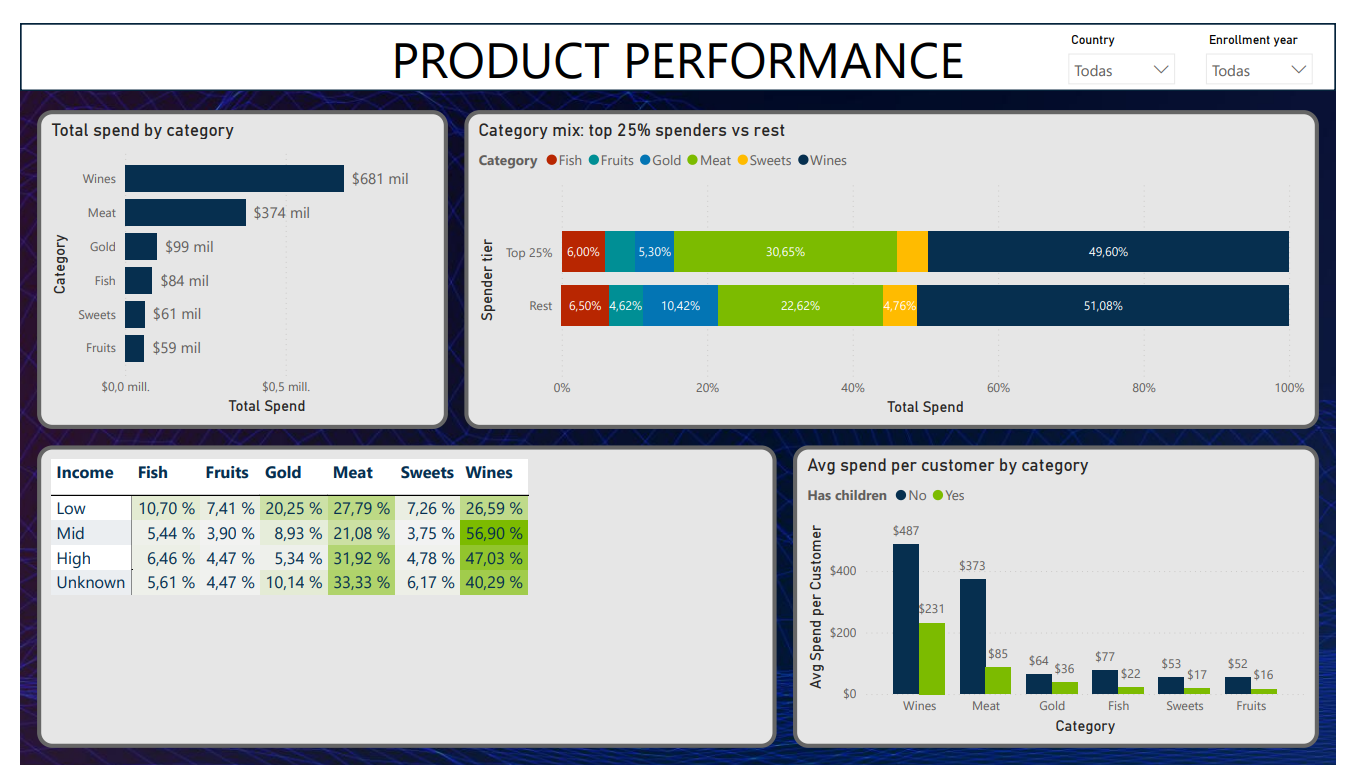

Layout of this report page (visuals, bound fields, positions):
{"tool":"powerbi","page":{"name":"4. Product Performance","canvas":[1280,720],"ordinal":3},"visuals":[{"type":"clusteredBarChart","title":"Total spend by category","fields":{"Category":["Fact_Spend.Category"],"Y":["_Measures.Total Spend"]},"box":[16,84,400,310],"z":100},{"type":"hundredPercentStackedBarChart","title":"Category mix: top 25% spenders vs rest","fields":{"Category":["Dim_Customer.Spend_Tier"],"Y":["_Measures.Total Spend"],"Series":["Fact_Spend.Category"]},"box":[432,84,832,310],"z":200},{"type":"pivotTable","title":"Share of spend by income","fields":{"Rows":["Dim_Customer.Income_Bucket"],"Values":["_Measures.% of Total Spend"],"Columns":["Fact_Spend.Category"]},"box":[16,410,720,294],"z":300},{"type":"clusteredColumnChart","title":"Avg spend per customer by category","fields":{"Category":["Fact_Spend.Category"],"Y":["_Measures.Avg Spend per Customer"],"Series":["Dim_Customer.Has_Children"]},"box":[752,410,512,294],"z":400},{"type":"shape","title":"PRODUCT PERFORMANCE","box":[0,0,1280,65],"z":10000},{"type":"slicer","fields":{"Values":["Dim_Customer.Country"]},"box":[1010,4,124,58],"z":11000},{"type":"slicer","fields":{"Values":["Dim_Date.Year"]},"box":[1144,4,124,58],"z":12000}]}

Visuals, with their boxes in screenshot pixels (x1, y1, x2, y2), scaled from the page's 1280x720 canvas onto the 1355x782 screenshot:
"Total spend by category" clusteredBarChart: region(17, 91, 440, 428)
"Category mix: top 25% spenders vs rest" hundredPercentStackedBarChart: region(457, 91, 1338, 428)
"Share of spend by income" pivotTable: region(17, 445, 779, 765)
"Avg spend per customer by category" clusteredColumnChart: region(796, 445, 1338, 765)
"PRODUCT PERFORMANCE" shape: region(0, 0, 1354, 71)
slicer - Dim_Customer.Country: region(1069, 4, 1200, 67)
slicer - Dim_Date.Year: region(1211, 4, 1342, 67)
